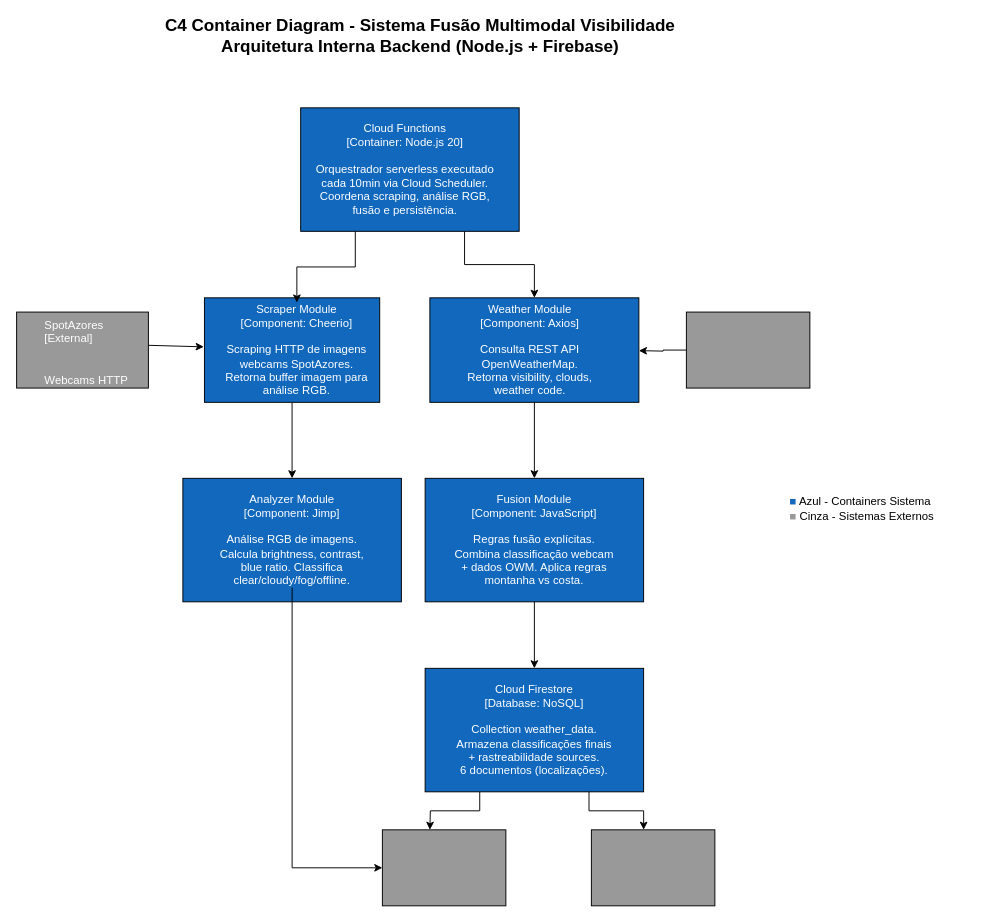
This 1007x922 diagram has some shape labels left out. The shapes that lost their labels are listed below. From the top down, each one's centre as x and y in pixels, then its label:
At (x=747, y=349): "OpenWeatherMap [External] REST API".
At (x=443, y=867): "App AzoresAI [External] Flutter App".
At (x=652, y=867): "Gemini 2.5 Flash [External] AI API".
